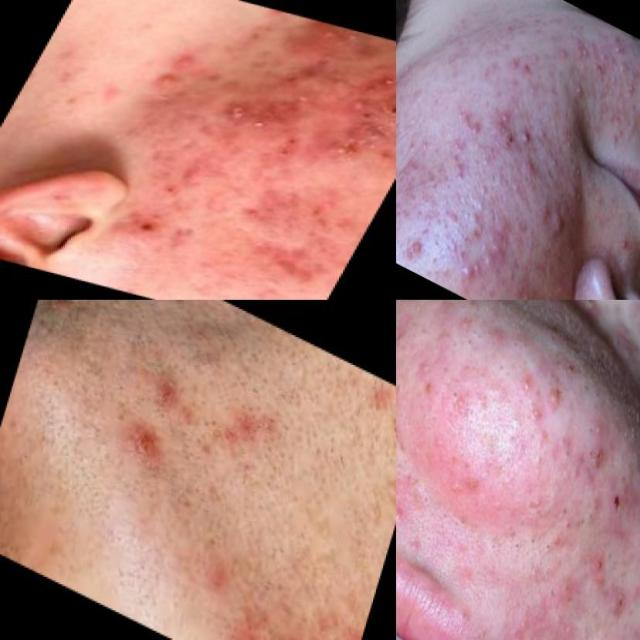acne_scars: (263, 252, 326, 296)
comedone: (508, 463, 559, 531), (544, 423, 584, 470), (495, 399, 533, 442), (572, 501, 600, 537), (549, 494, 577, 528), (555, 512, 580, 541), (491, 356, 511, 381), (506, 532, 526, 556), (525, 526, 543, 552), (541, 537, 558, 558)
cystic: (272, 15, 364, 76), (546, 199, 574, 247), (146, 64, 185, 98)
papule: (438, 450, 492, 516), (120, 414, 173, 476), (435, 372, 481, 429), (540, 570, 585, 626), (478, 210, 515, 272), (399, 224, 436, 273), (582, 442, 614, 487), (443, 142, 473, 185), (582, 408, 612, 451), (603, 585, 635, 624), (453, 303, 482, 343), (409, 348, 439, 386), (584, 546, 612, 584), (514, 120, 540, 156), (396, 318, 415, 360), (460, 253, 483, 287), (606, 107, 631, 138), (396, 376, 408, 414)
pustule: (607, 222, 640, 265), (539, 379, 570, 418), (512, 367, 544, 404), (562, 151, 592, 190), (566, 72, 596, 110), (519, 148, 544, 185), (605, 29, 633, 62), (396, 494, 416, 532), (574, 300, 603, 322), (620, 74, 640, 102)
sebo-crystan-conglo: (327, 116, 396, 166), (490, 100, 524, 154), (566, 24, 601, 67), (455, 105, 486, 145)
